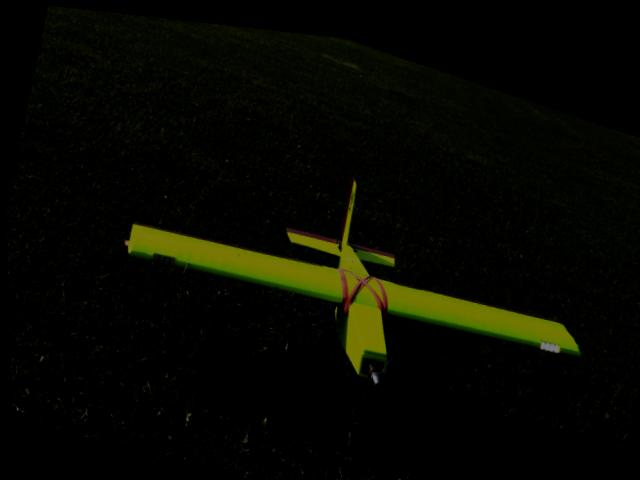plane: (93, 101, 608, 480)
